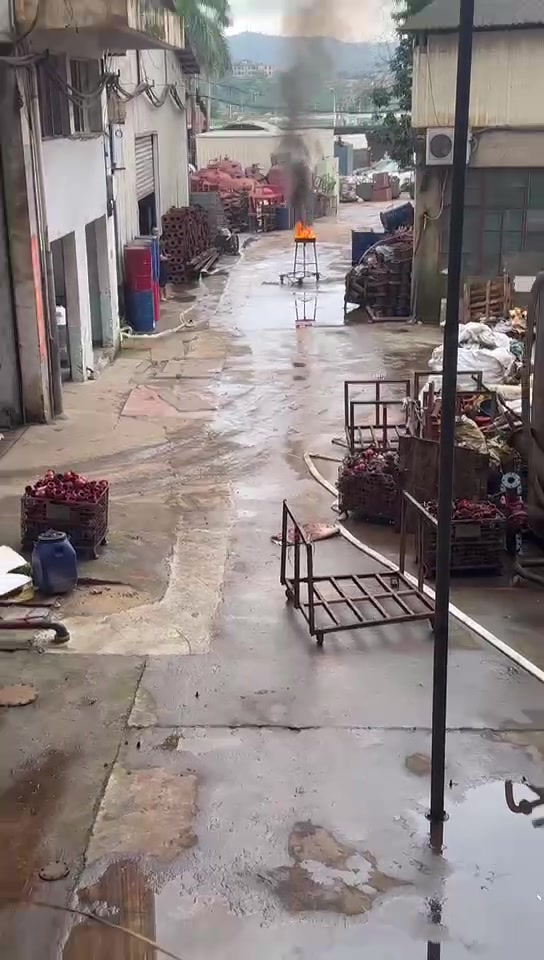fire: (294, 218, 315, 239)
